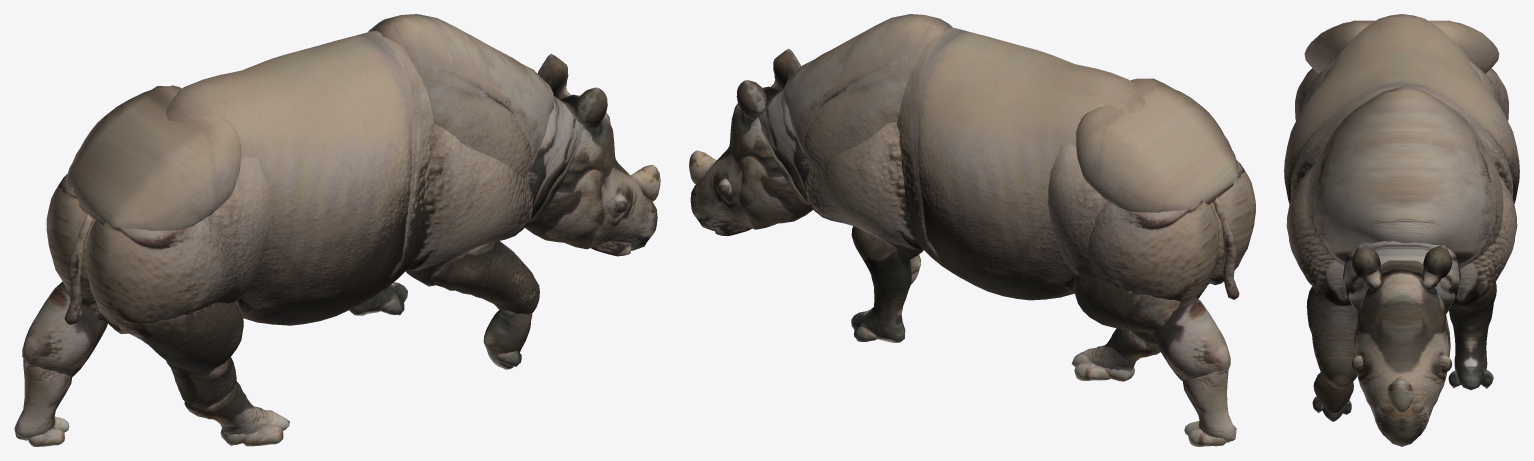
Rendered from javan_rhino_3c.glb.
The picture shows the model from 3 angles, left to right: view 1: azimuth 30°, elevation 25°; view 2: azimuth 150°, elevation 25°; view 3: azimuth 270°, elevation 25°; orthographic projection. The views are drawn at different scales.
Visible parts, largest first — view 1: Object_2; view 2: Object_2; view 3: Object_2.
Part boxes in pixels (x1,y1,x2,y2): Object_2: [14, 14, 660, 446]; Object_2: [689, 14, 1255, 446]; Object_2: [1284, 14, 1519, 446].
Size of the model in its own units: 1.87 by 1.04 by 0.6844.
1 material, 1 textured.
